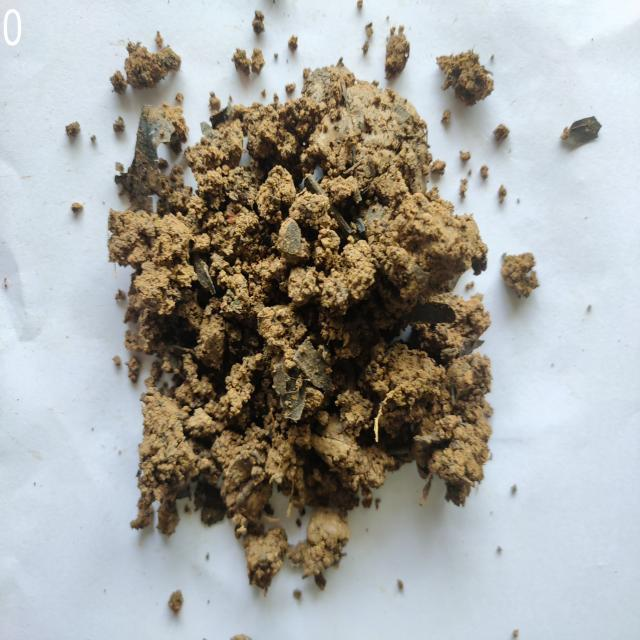soil: (188, 164, 408, 450)
